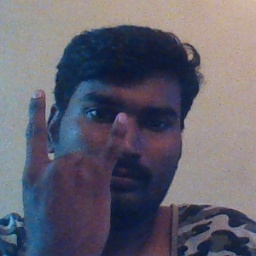V: (17, 86, 130, 256)
